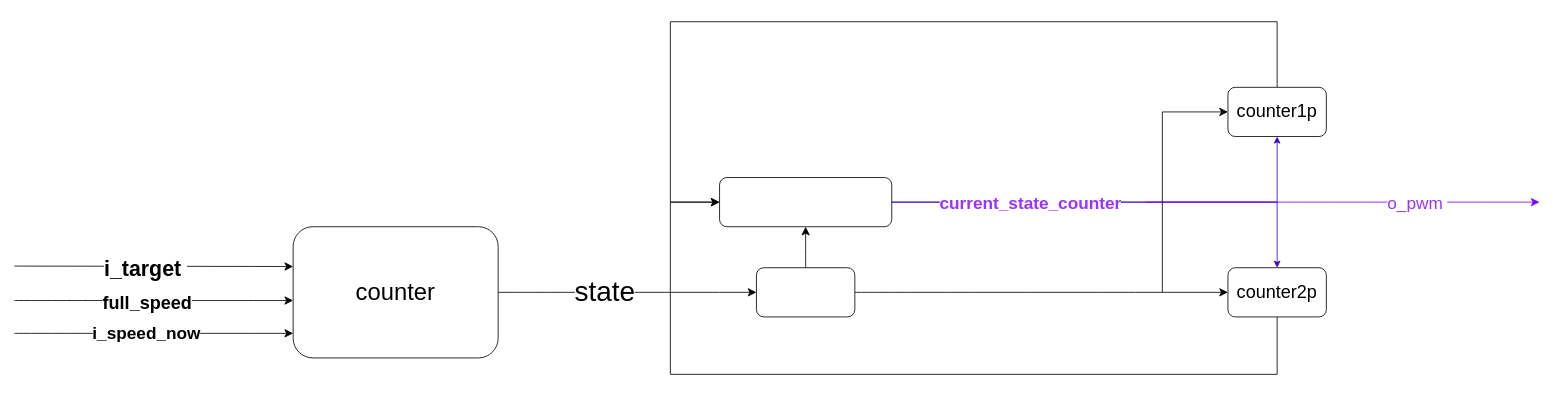
The diagram is 1553 pixels wide and 397 high, and some of its shapes have lost their labels. Here are the shapes that lost their labels. From the top down, the box of each, then its label:
(719, 177, 892, 227): count_state
(756, 267, 855, 317): uupbnd
